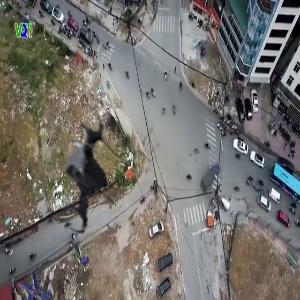drone: (32, 118, 149, 235)
